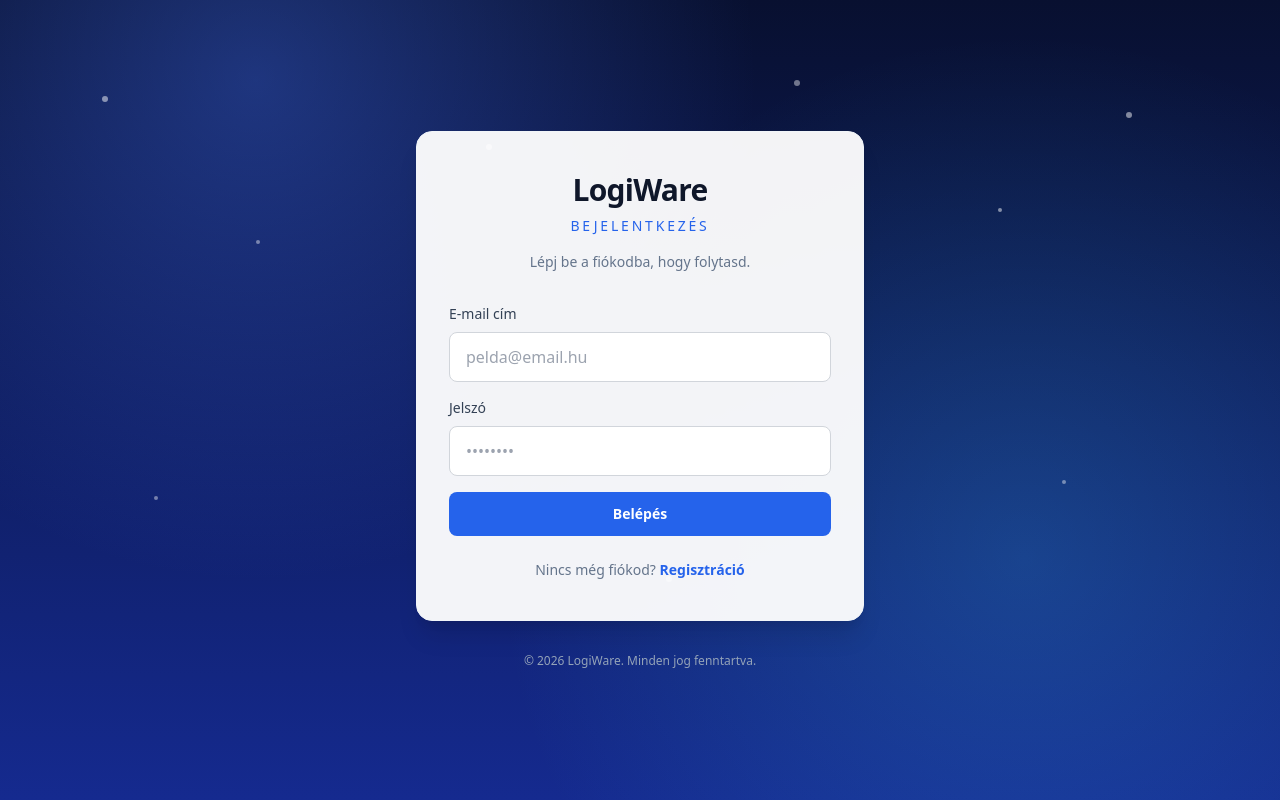
Test case: shows API error message on failed login
Type "user@test.com" into the field labelled "E-mail cím" at (640, 357), box [449,332,831,382]
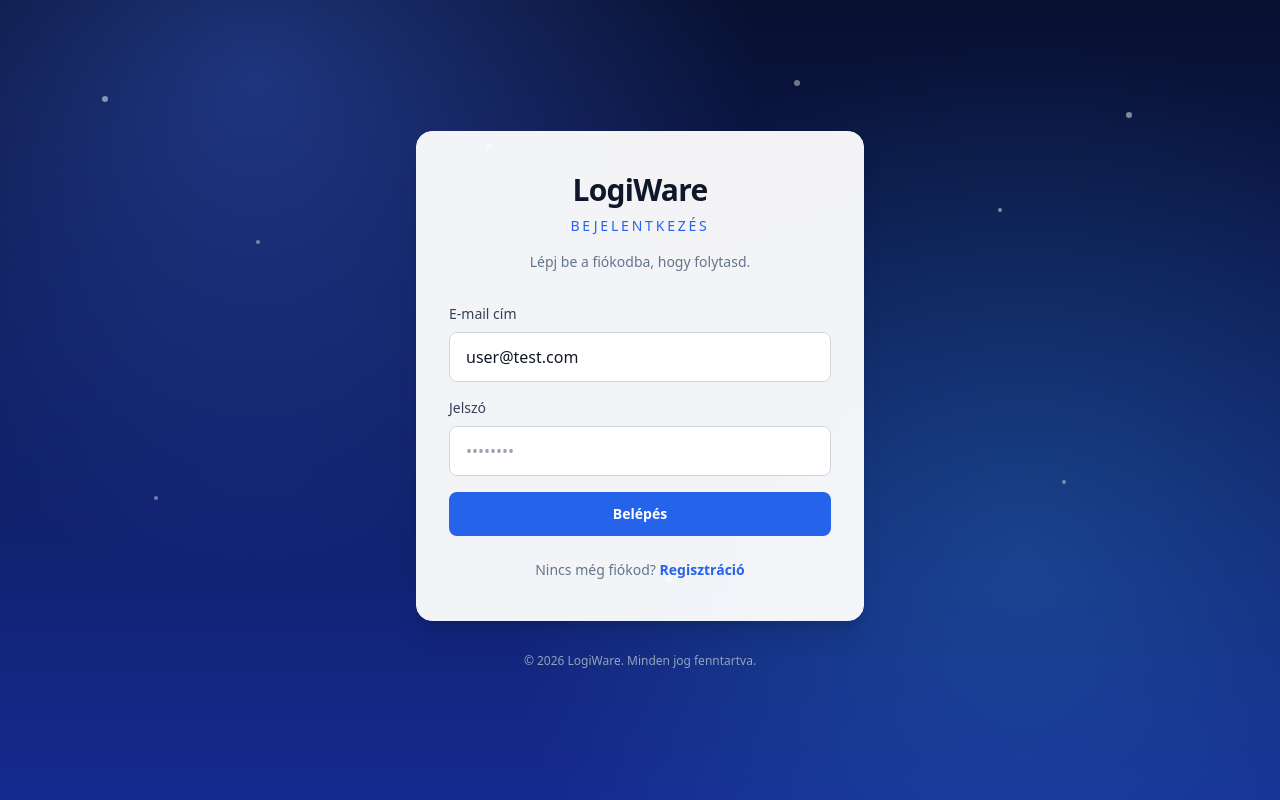
Type "wrongpass" into the password field labelled "Jelszó" at (640, 451), box [449,426,831,476]
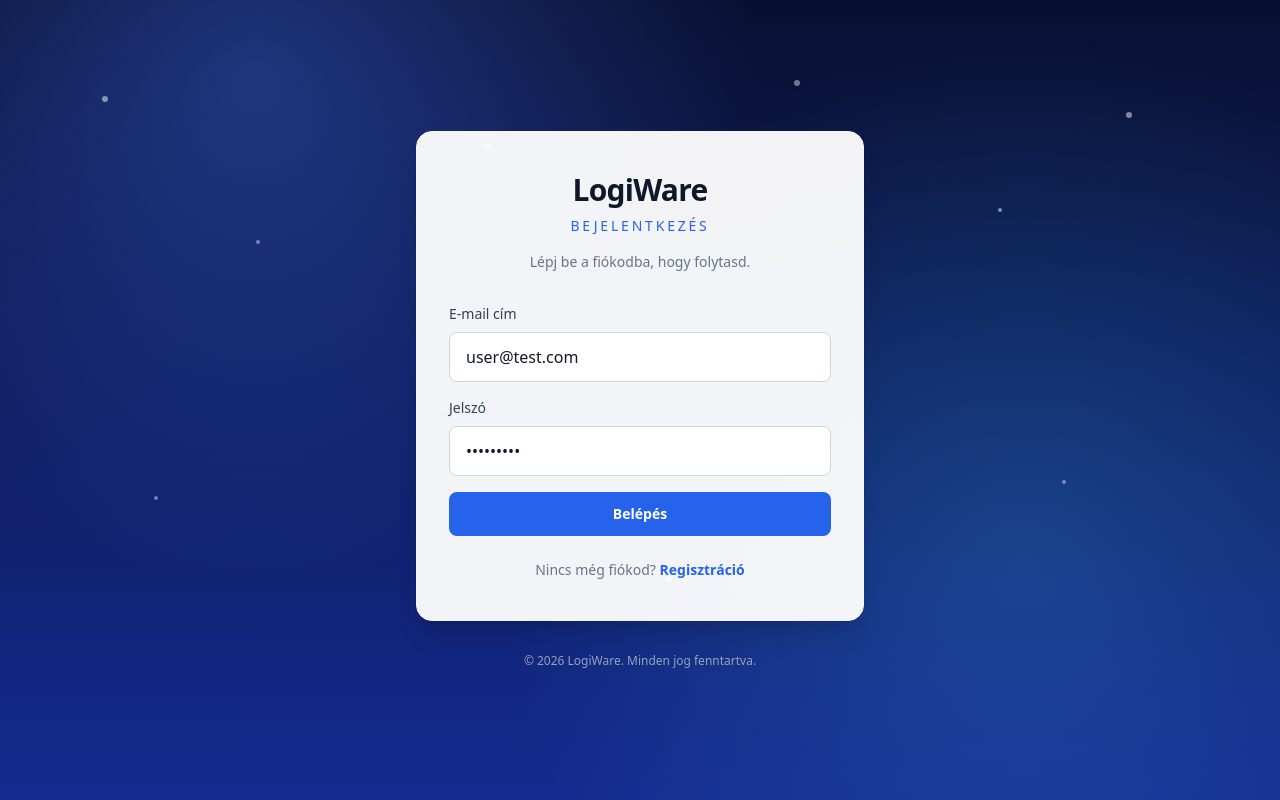
Click the button "Belépés" at (640, 514), box [449,492,831,536]
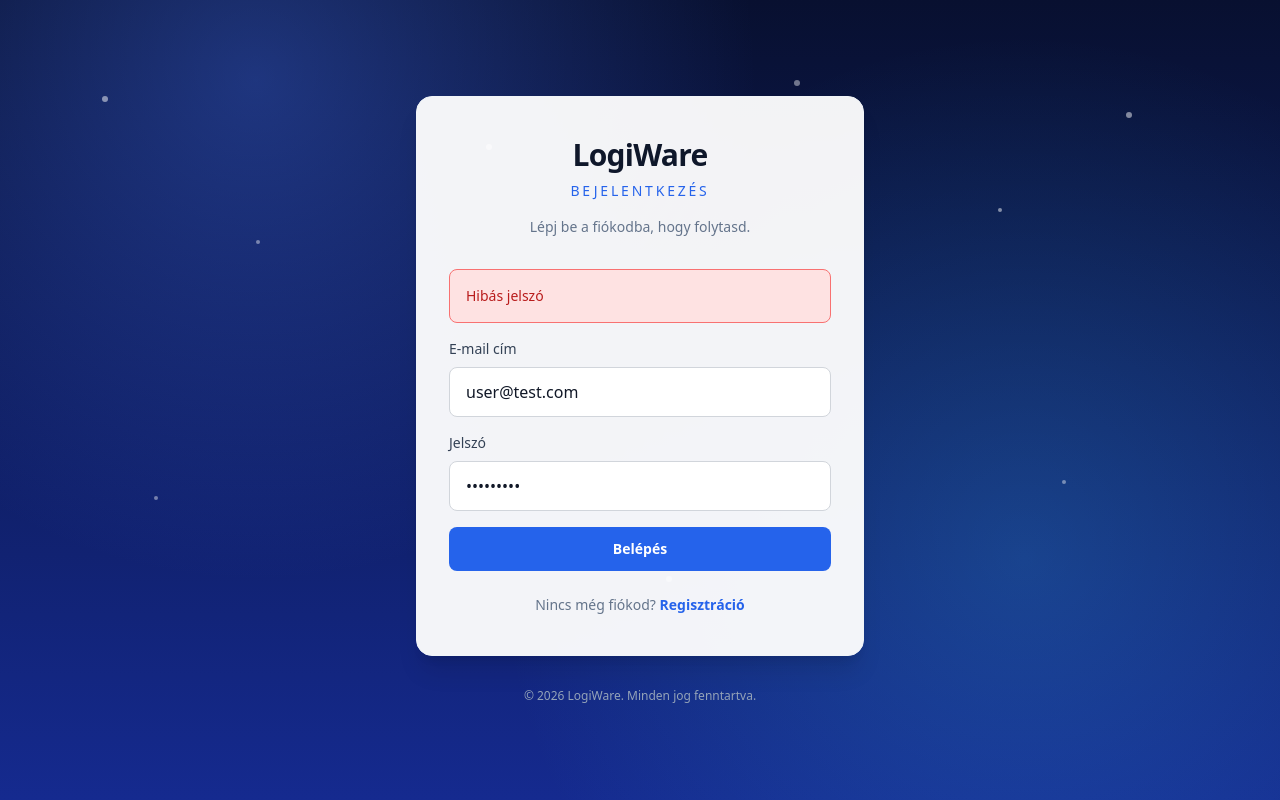
Now the text "Hibás jelszó" is shown, box [449,269,831,323]
